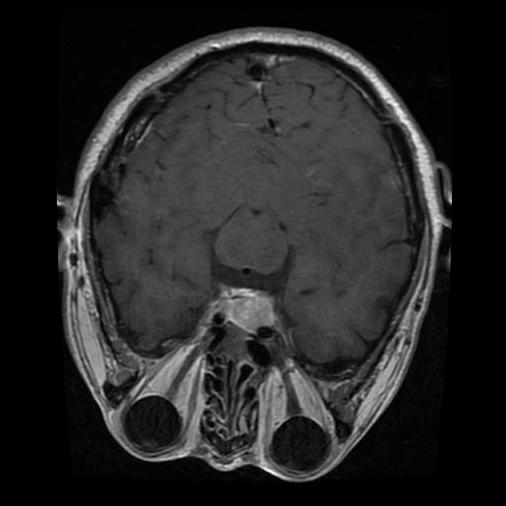Tumour-Pituitary: (206, 284, 282, 335)
